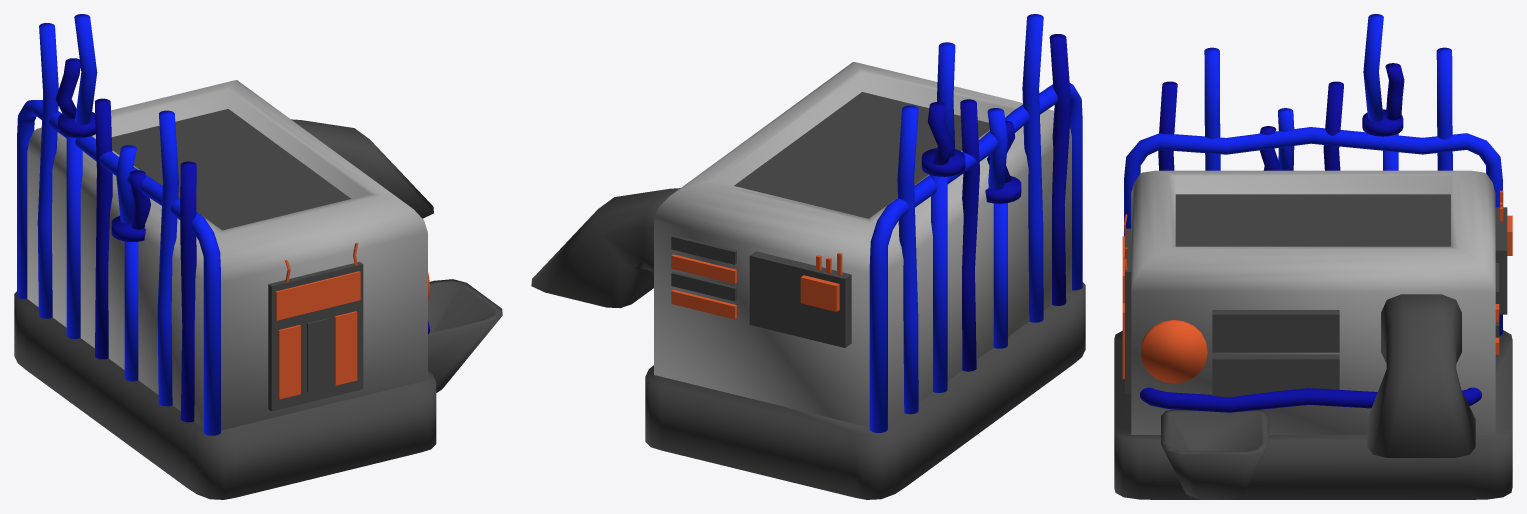
The model's file is Machine1.fbx.
3 views of the same model, side by side, from view 1: azimuth 30°, elevation 25°; view 2: azimuth 150°, elevation 25°; view 3: azimuth 270°, elevation 25° (orthographic). The views are drawn at different scales.
Visible parts, largest first — view 1: BaseMesh, RightPartsMesh, InputMesh, OutputMesh; view 2: BaseMesh, LeftPartsMesh, OutputMesh; view 3: BaseMesh, OutputMesh, InputMesh, LeftPartsMesh, RightPartsMesh.
Part boxes in pixels (x1=…): BaseMesh: x1=14, y1=14, x2=436, y2=499; RightPartsMesh: x1=268, y1=242, x2=363, y2=411; InputMesh: x1=428, y1=279, x2=502, y2=392; OutputMesh: x1=291, y1=119, x2=433, y2=218; BaseMesh: x1=645, y1=14, x2=1085, y2=499; LeftPartsMesh: x1=671, y1=235, x2=851, y2=347; OutputMesh: x1=531, y1=188, x2=680, y2=308; BaseMesh: x1=1114, y1=14, x2=1512, y2=499; OutputMesh: x1=1367, y1=294, x2=1475, y2=457; InputMesh: x1=1161, y1=409, x2=1269, y2=499; LeftPartsMesh: x1=1495, y1=190, x2=1512, y2=354; RightPartsMesh: x1=1122, y1=214, x2=1131, y2=392.
Size of the model in its own units: 1.58 by 1.61 by 1.5.
